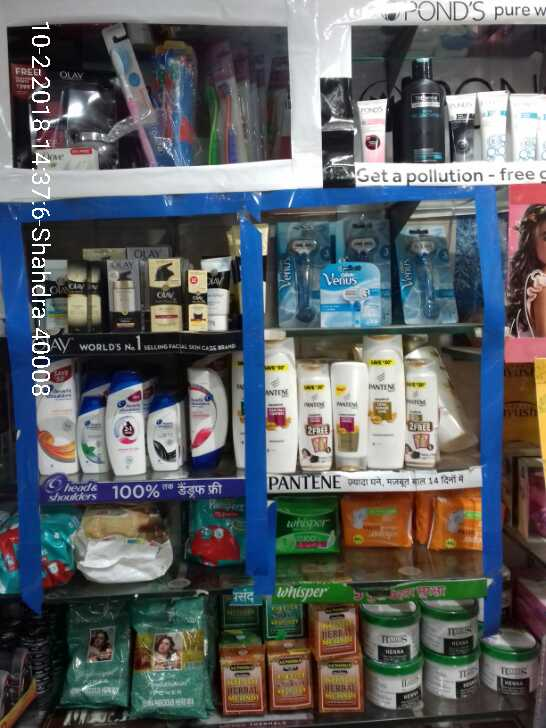venus: (399, 226, 450, 320), (281, 223, 321, 326), (323, 267, 384, 324), (338, 219, 392, 258)
